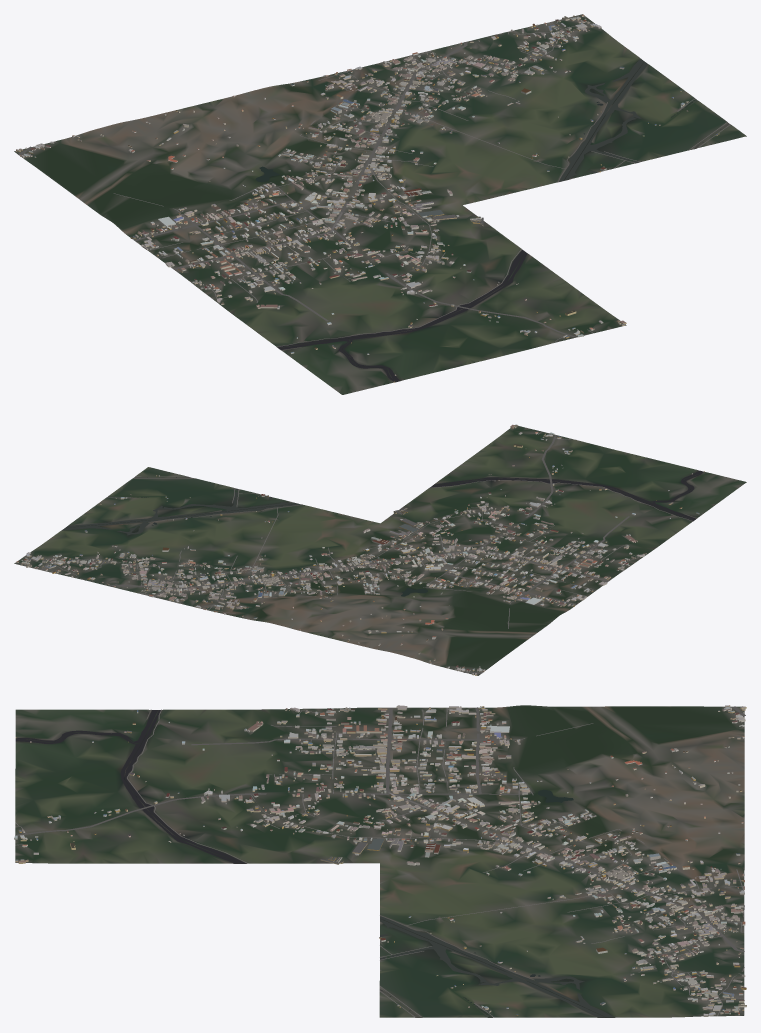
3 renders of one model, top to bottom at view 1: azimuth 30°, elevation 25°; view 2: azimuth 150°, elevation 25°; view 3: azimuth 270°, elevation 25°, orthographic. The views are drawn at different scales.
Parts seen in each view (by area): view 1: ground, buildings, roads, water; view 2: ground, buildings, roads, water; view 3: ground, buildings, roads, water.
Part boxes in pixels (x1,y1,x2,y2): ground: (14, 14, 746, 394); buildings: (16, 14, 719, 382); roads: (18, 21, 730, 350); water: (255, 59, 721, 381); ground: (14, 425, 746, 675); buildings: (16, 424, 704, 675); roads: (24, 431, 696, 673); water: (62, 470, 703, 596); ground: (15, 705, 744, 1017); buildings: (14, 705, 746, 1016); roads: (15, 706, 745, 1017); water: (15, 710, 613, 1017).
Bounding box in the file's own units: 2810 × 35.92 × 2816.
